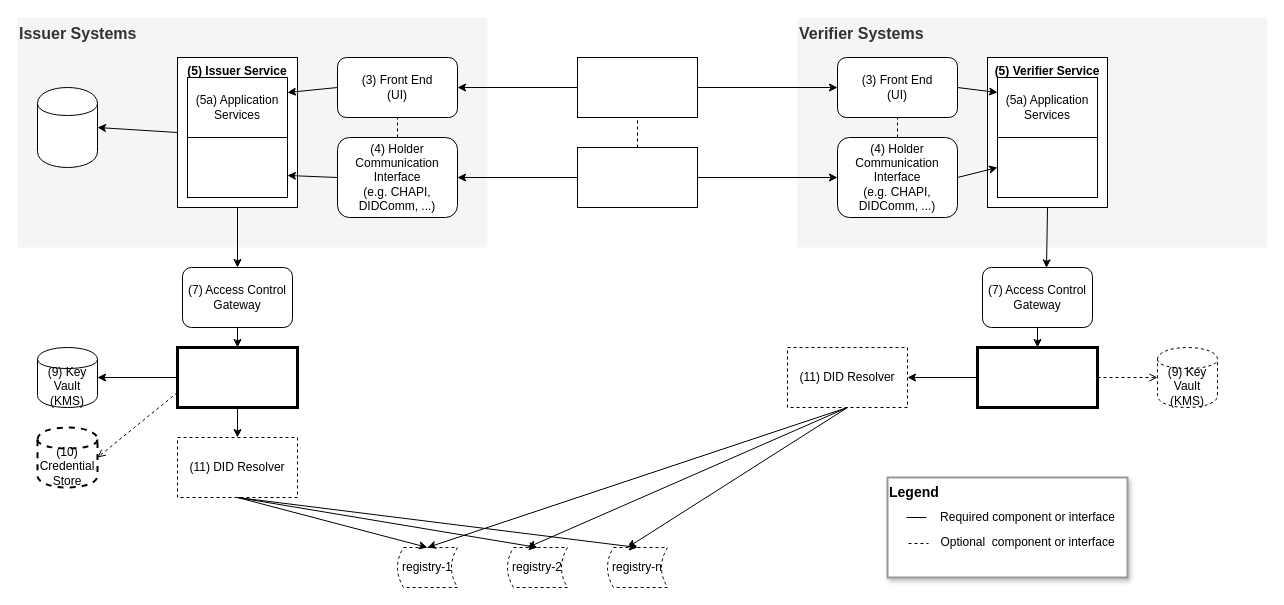
Some shapes in this 1284 by 605 pixel diagram are drawn without their labels. The centre of each missing label's shape, as x and y in pixels:
(1) User Agent (Browser/App): the point at 637,87
(2) Holder / Wallet: the point at 637,177
(5b) Verifiable Credential Issuer Service: the point at 237,167
(5b) Verifiable Credential Verifer Service: the point at 1047,167
(6) Subject Database: the point at 67,127
(8) Verifiable Credentials Issuer HTTP API: the point at 237,377
(8) Verifiable Credentials Verifier HTTP API: the point at 1037,377
